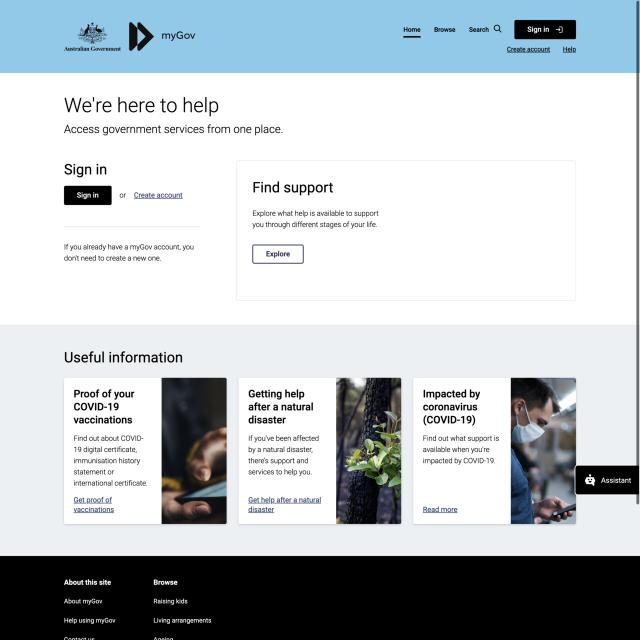footer: (0, 554, 640, 640)
logo: (61, 20, 203, 61)
navigation: (399, 22, 490, 41)
